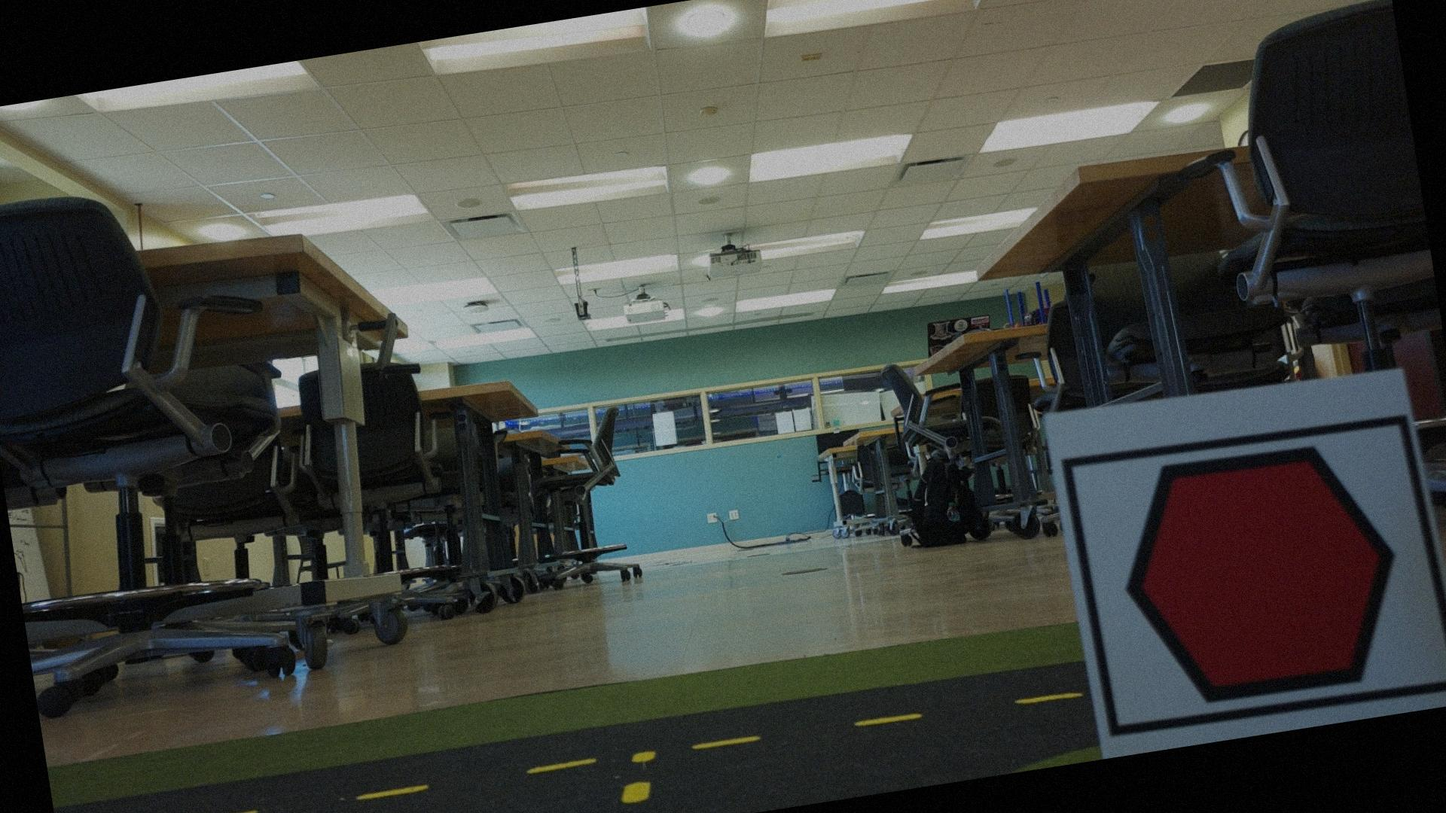stop: (1091, 422, 1433, 731)
yellowline: (63, 684, 1078, 812), (612, 746, 663, 808)
